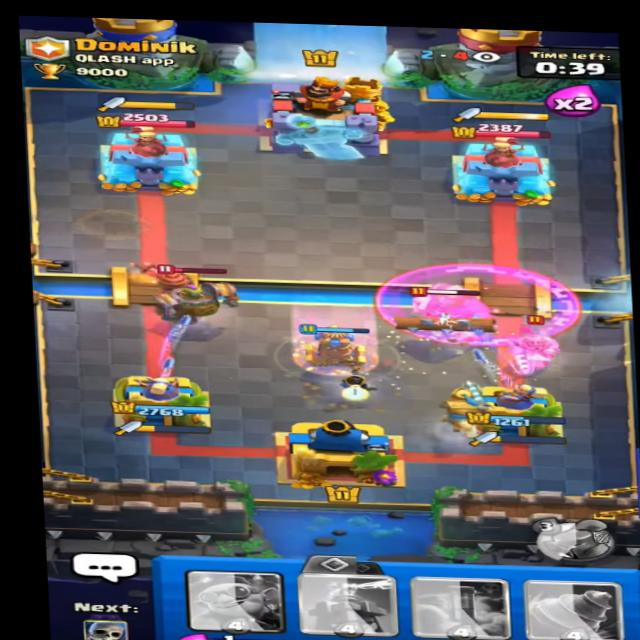giant: (393, 275, 511, 337)
goblin-machine: (134, 262, 245, 330)
prince: (498, 321, 563, 373)
